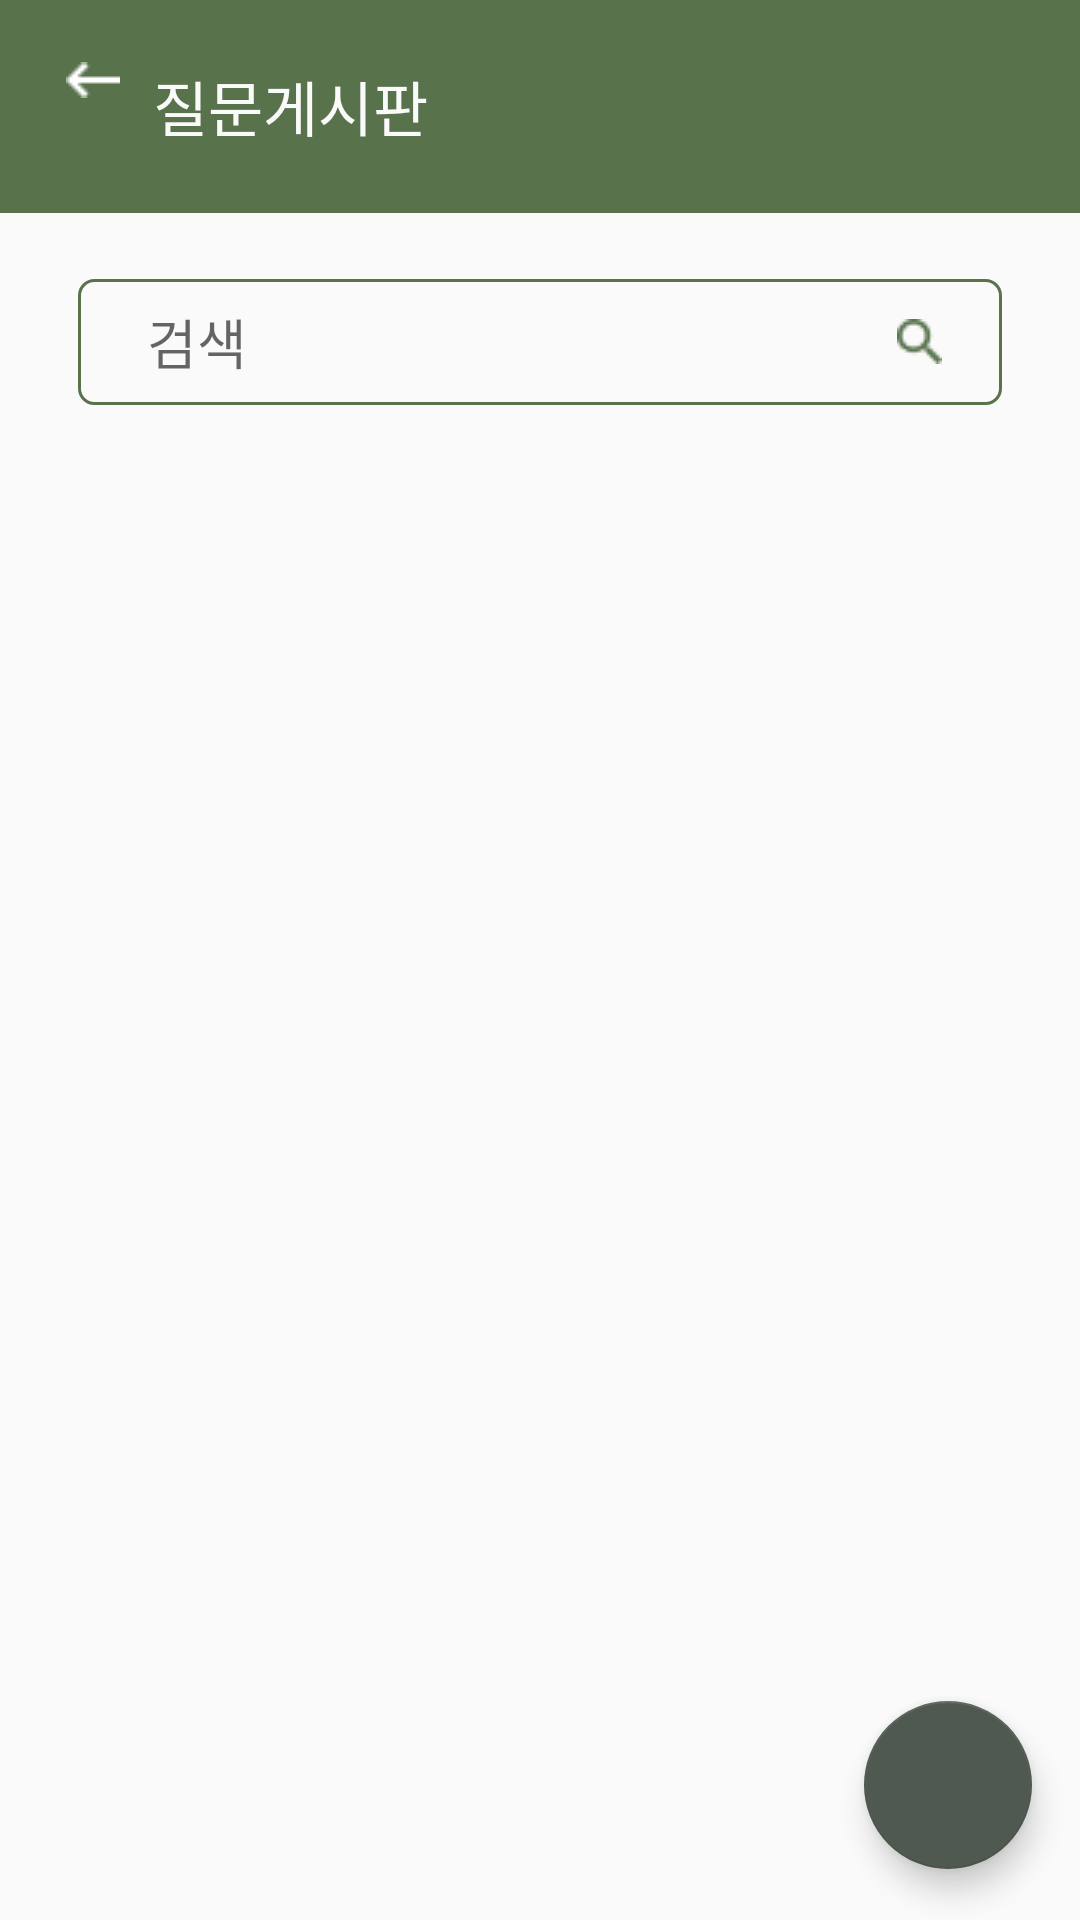

Where to tap for icons on this 1080 x 1920 app screen, as point (x, y):
back: point (93, 80)
